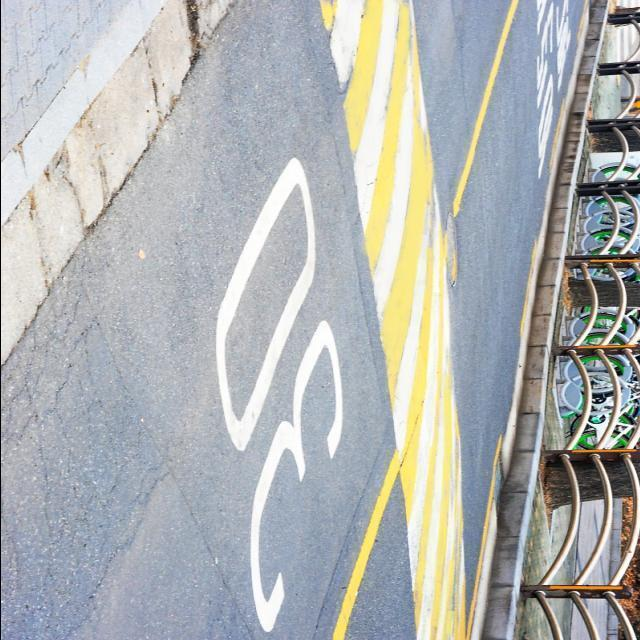speedbreaker: (310, 0, 494, 640)
